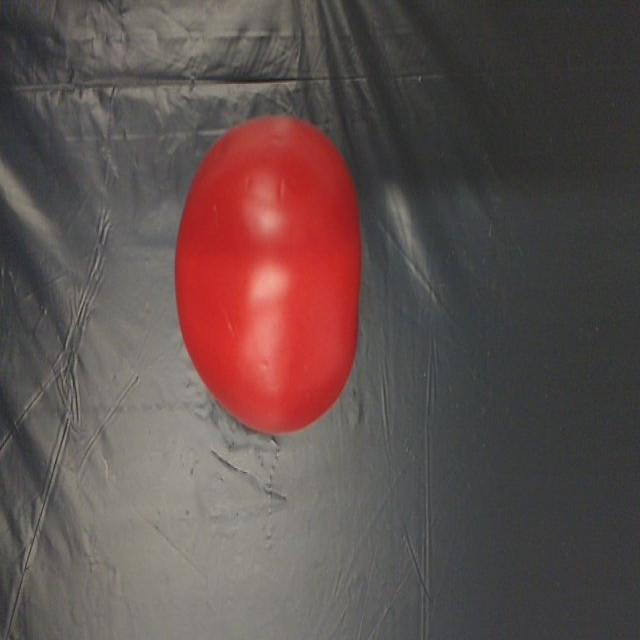kirmizi: (177, 103, 373, 457)
